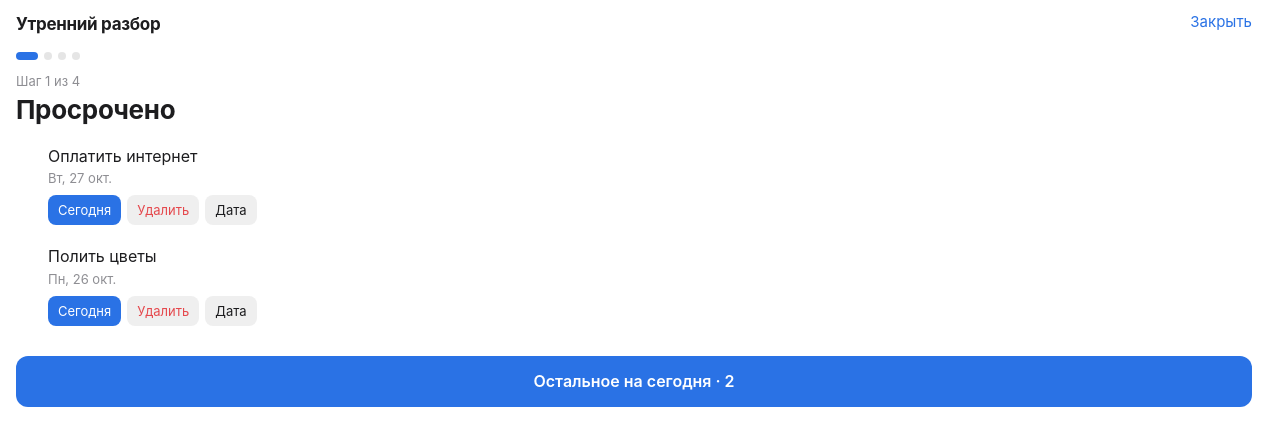
Test: Утренний разбор › частичный сбой оставляет неперенесённые в шаге
expect the text "Оплатить интернет" is shown: met, box [48,146,198,166]
Click the button "Остальное на сегодня · 2": (634, 381) [16,356,1252,406]
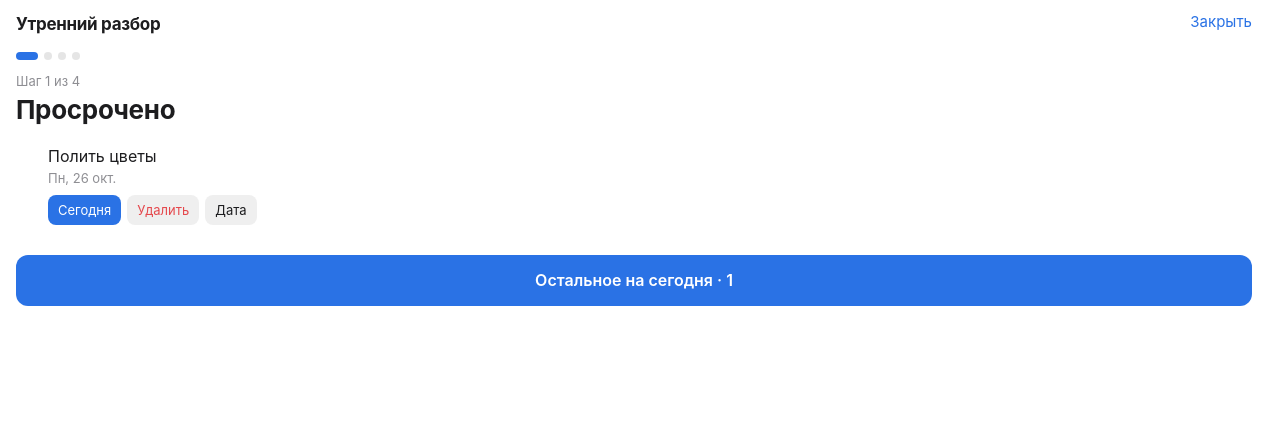
expect the heading "Просрочено" is shown: met, box [16,94,175,125]
expect the text "Оплатить интернет" is gone: met
